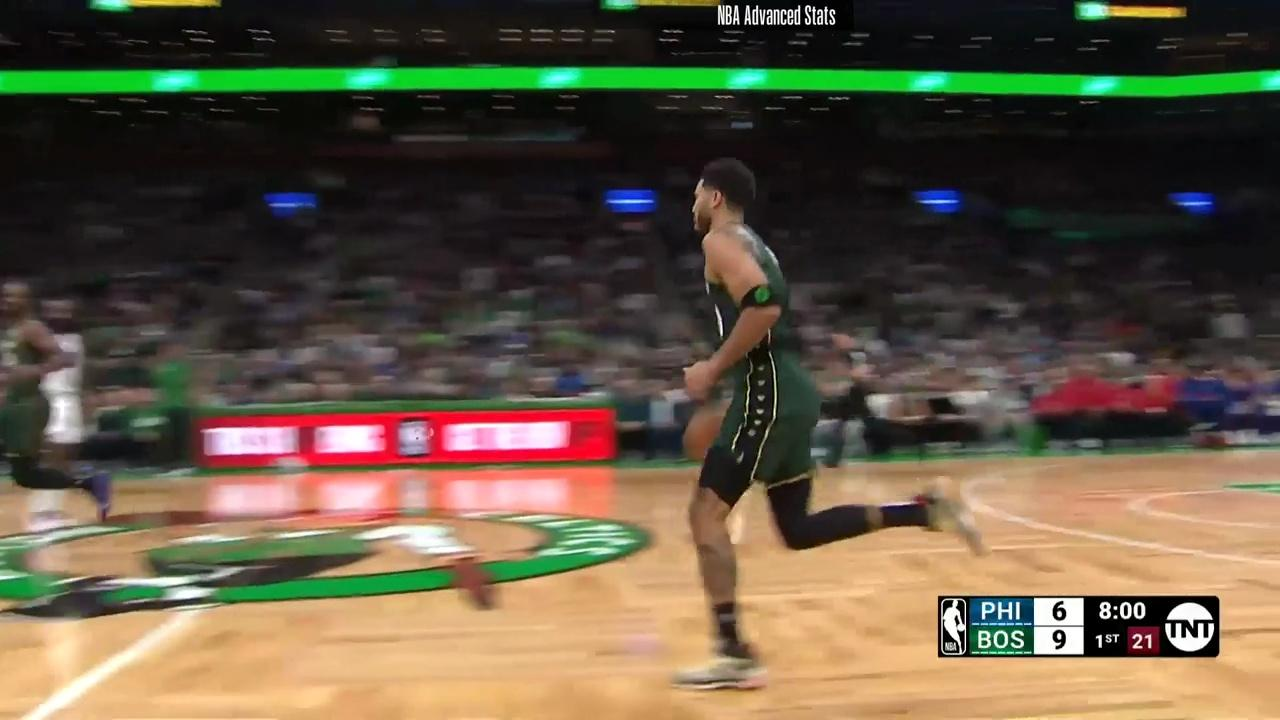Ball: (681, 407, 727, 467)
Person: (678, 156, 967, 696), (0, 276, 110, 526)
